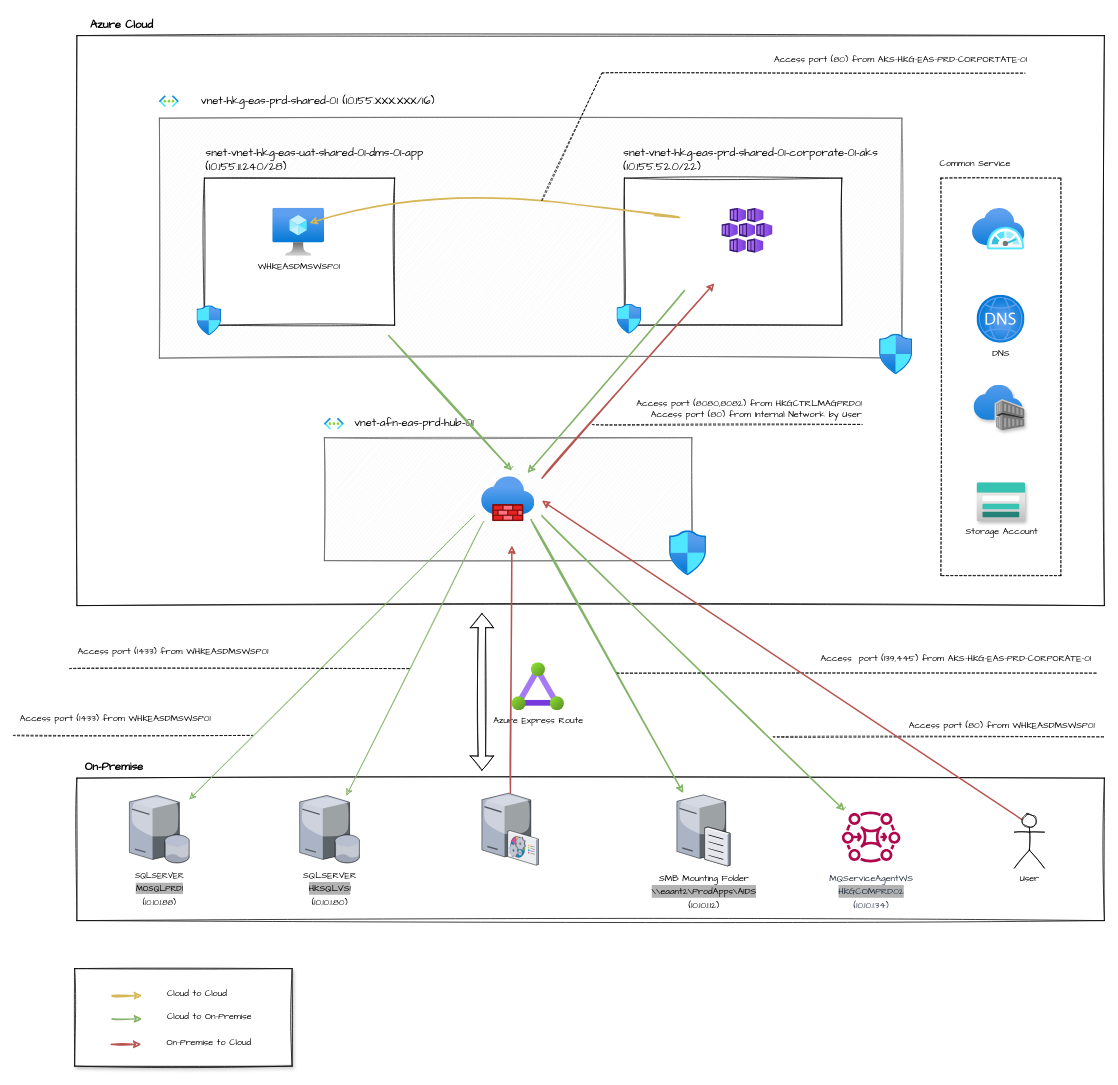
Image size: 1118x1085. Some labels were removed from this diagram. The shapes that lost their labels are listed below. From the top down, each one's centre as x and y in pixels, then its label:
[747,230]: AKS-HKG-EAS-PRD-CORPORATE-01
[998,229]: Monitor
[999,409]: Container Registry
[507,498]: Check Piont
[510,829]: Control-M HKGCTRLMAGPRD01 (10.10.2.67)
